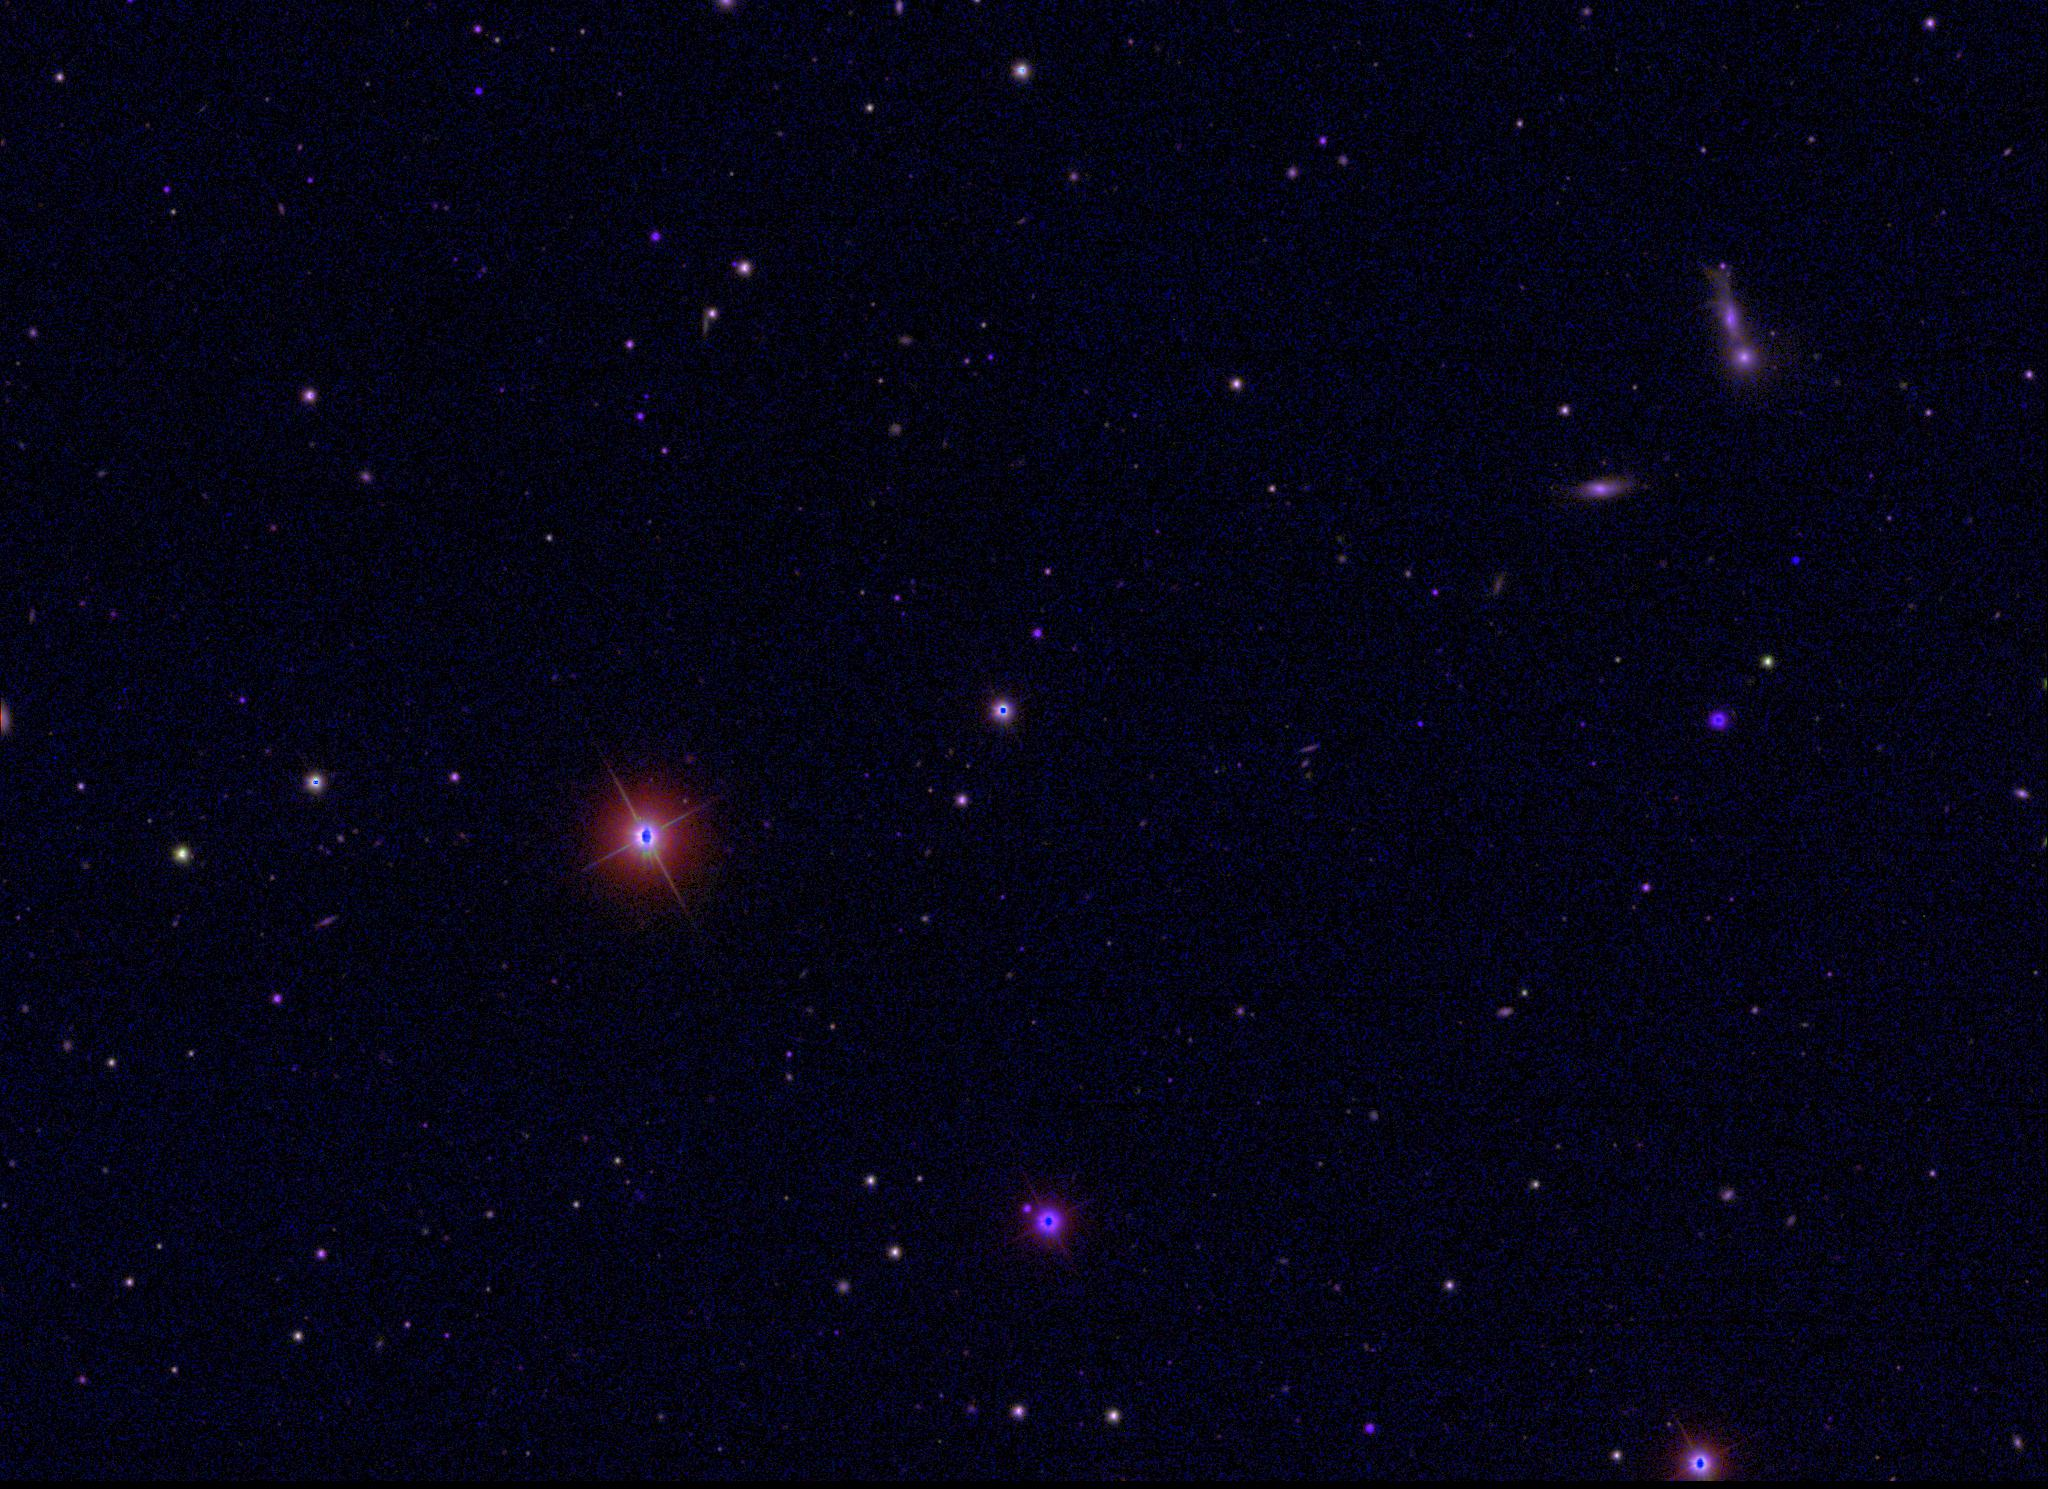L: (1789, 552, 1803, 566)
